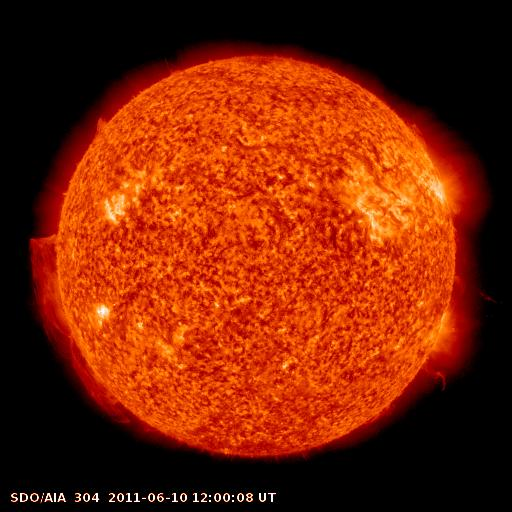prominence: (26, 230, 160, 435), (440, 265, 497, 309), (409, 353, 454, 395), (82, 104, 121, 147)
